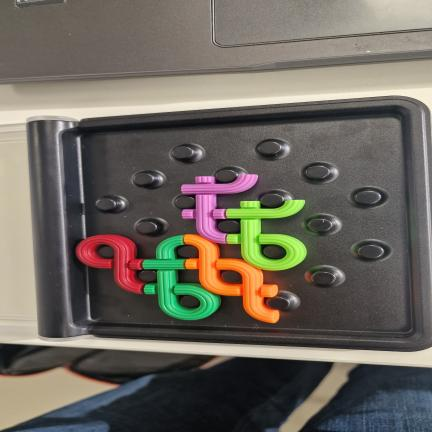D_Green: (142, 236, 221, 320)
H_Purple: (181, 175, 258, 243)
I_Orange: (183, 235, 279, 322)
J_DarkRed: (76, 235, 146, 293)
K_YellowGreen: (226, 200, 306, 270)
board: (27, 96, 432, 351)
hinge: (32, 113, 76, 341)
pin: (265, 291, 300, 311), (133, 171, 165, 188), (215, 167, 244, 183), (355, 190, 382, 205), (358, 244, 384, 259), (258, 141, 282, 156), (305, 165, 330, 179), (308, 218, 333, 232), (311, 271, 336, 285), (261, 193, 284, 207), (263, 245, 286, 259), (137, 221, 160, 234), (173, 145, 194, 159), (218, 220, 240, 233), (177, 245, 199, 258), (180, 295, 200, 309), (221, 270, 242, 283), (96, 198, 116, 211), (175, 196, 195, 209), (138, 270, 157, 282), (97, 246, 115, 258)
